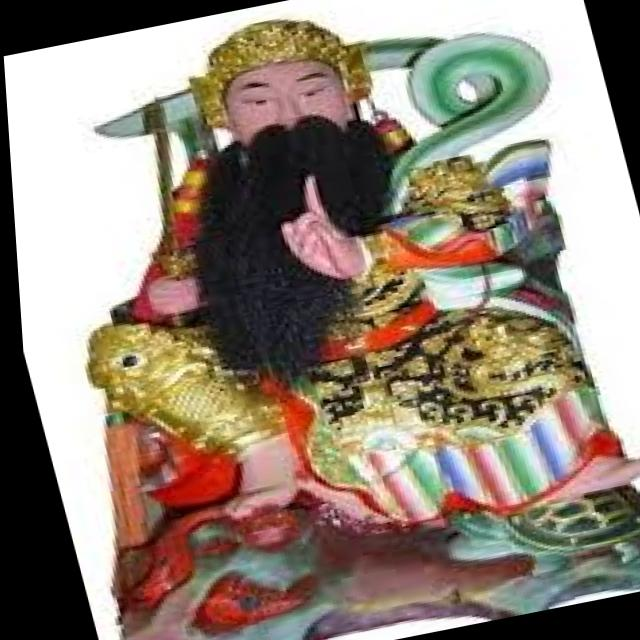Xuan wu: (18, 0, 640, 587)
